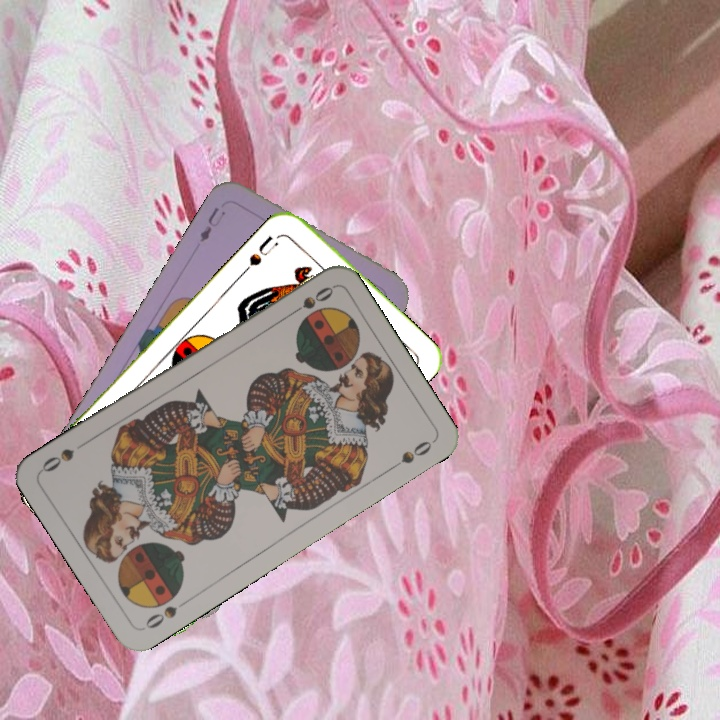EU: (195, 202, 228, 245)
SO: (283, 282, 337, 320), (141, 595, 192, 632)
SU: (238, 232, 281, 276)
